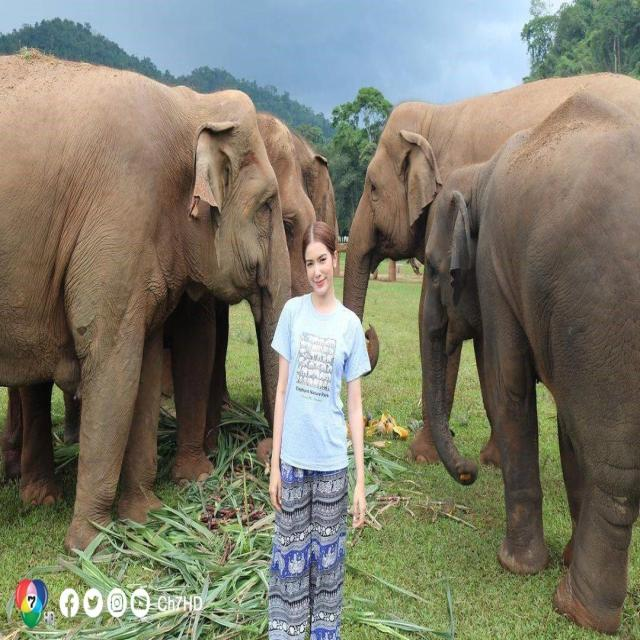Elephant: (0, 36, 306, 559), (400, 149, 640, 640), (335, 57, 640, 412)
